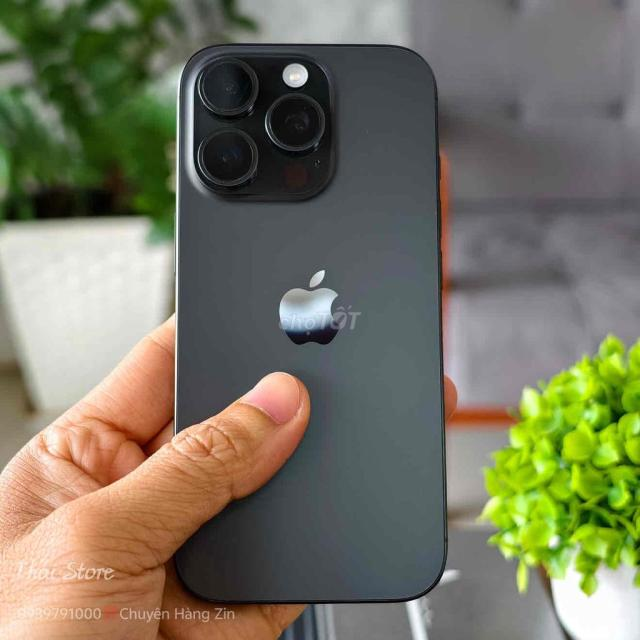gen_16: (156, 32, 451, 605)
